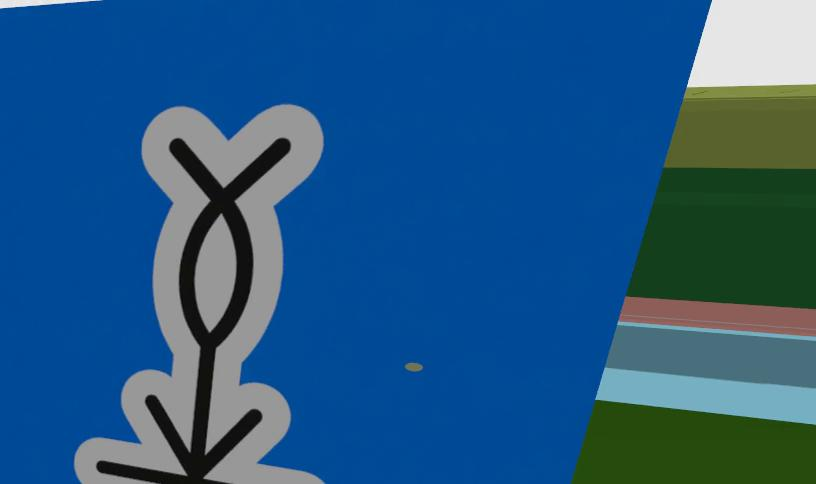KFS_REAL: (0, 0, 706, 484), (73, 105, 326, 484)
